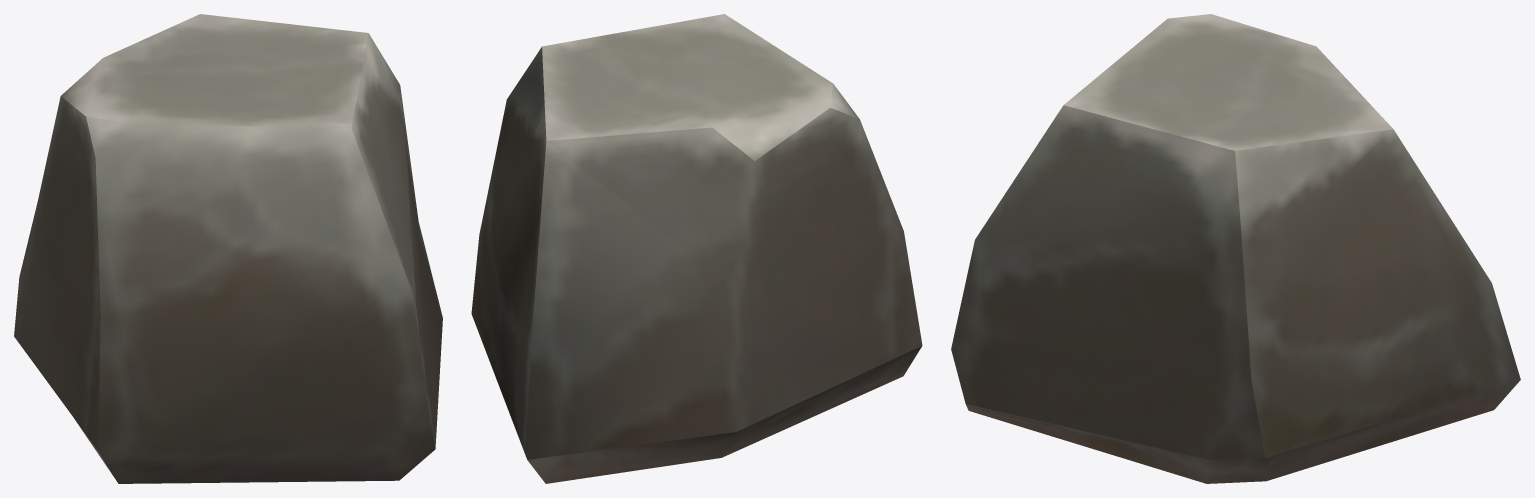
File: sylized_08.obj
3 views of the same model, side by side, from view 1: azimuth 30°, elevation 25°; view 2: azimuth 150°, elevation 25°; view 3: azimuth 270°, elevation 25° (orthographic). The views are drawn at different scales.
Parts seen in each view (by area): view 1: SM_Rocks_06; view 2: SM_Rocks_06; view 3: SM_Rocks_06.
Boxes of the visible parts, <box> form: SM_Rocks_06: <box>14,14,442,483</box>; SM_Rocks_06: <box>471,14,922,483</box>; SM_Rocks_06: <box>951,14,1520,483</box>.
Size of the model in its own units: 28.32 by 24.1 by 36.28.
